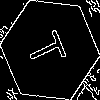T: (25, 25, 75, 71)
